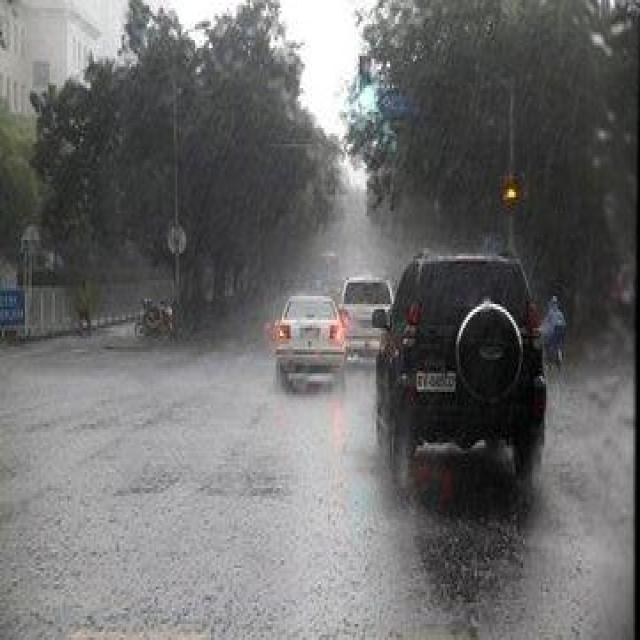car: (368, 248, 540, 486), (271, 290, 346, 384), (337, 272, 395, 368)
